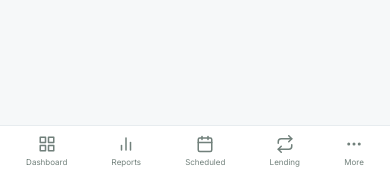
it: MobileNav › More menu › navigates and closes when an item is chosen
Click the button "More". click: (354,152)
box: x1=336 y1=132 x2=372 y2=171
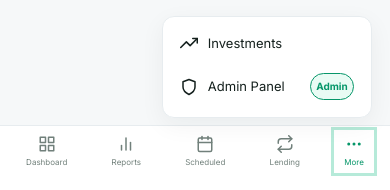
Click the menu item "Investments". click: (231,43)
box: x1=180 y1=34 x2=282 y2=52
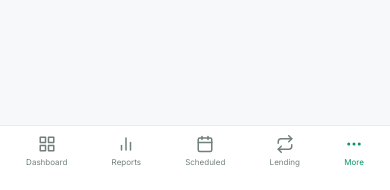
Expected: the menu is gone
